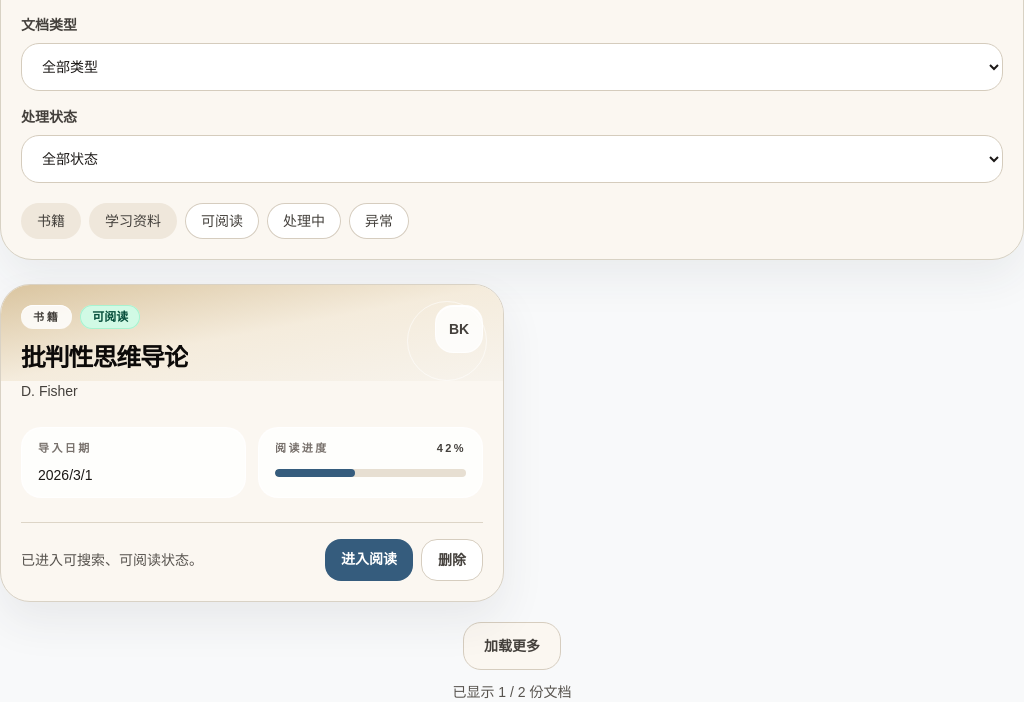
Scenario: DocumentLibraryPage › loads more documents and confirms deletion
The width and height of the screenshot is (1024, 702).
(page scrolled)
Expected: the heading "批判性思维导论" is shown, [21,345,188,371]
Click the button "加载更多".
click(512, 646)  # box [463,622,561,670]
(page scrolled)
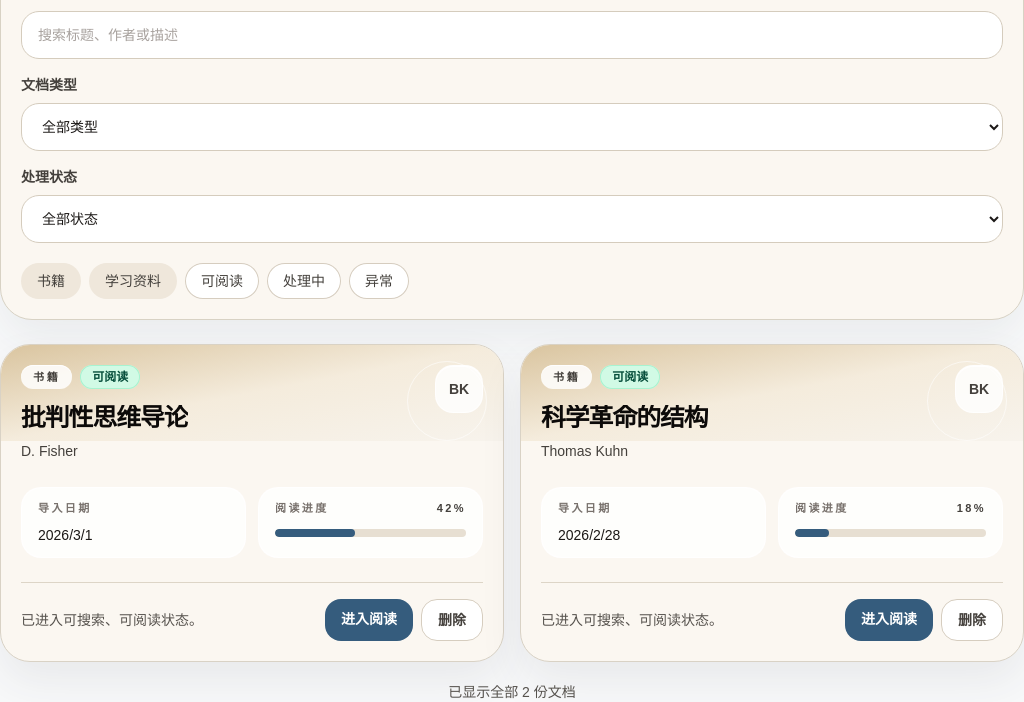
Result: the heading "科学革命的结构" is shown at [541,405,708,431]
Click the button "删除" below "42".
click(452, 620)  # box [421,598,483,640]
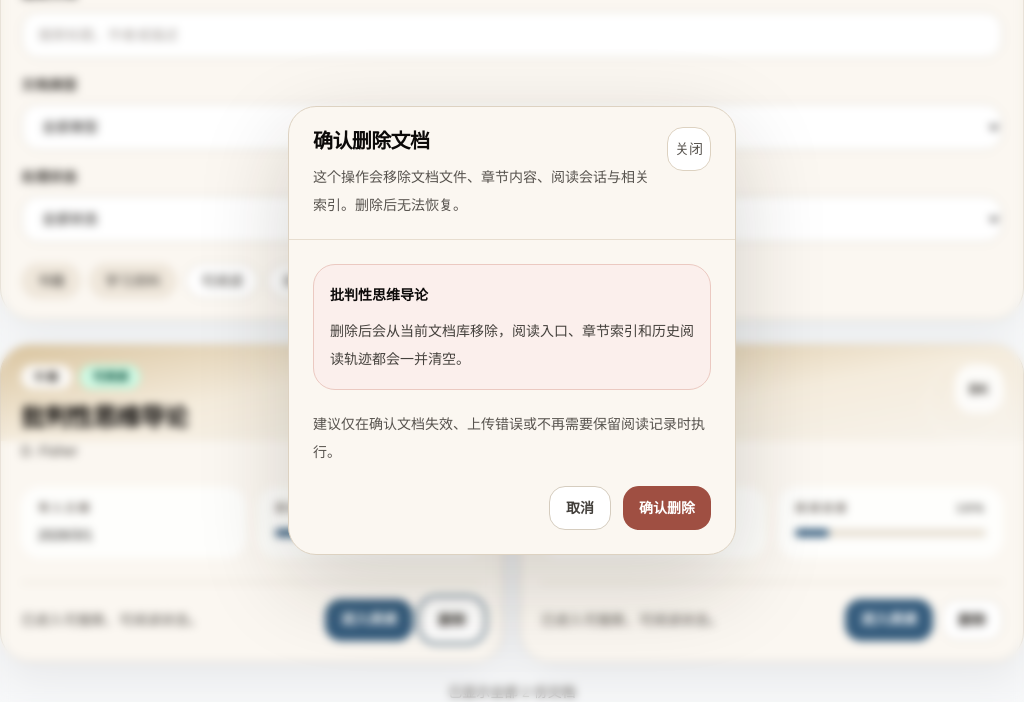
Result: the dialog is shown at [288,106,736,554]
Result: the heading "确认删除文档" is shown at [313,130,429,152]
Result: the text "批判性思维导论" is shown at [330,286,428,302]
Click the button "确认删除".
click(667, 508)  # box [623,486,711,530]
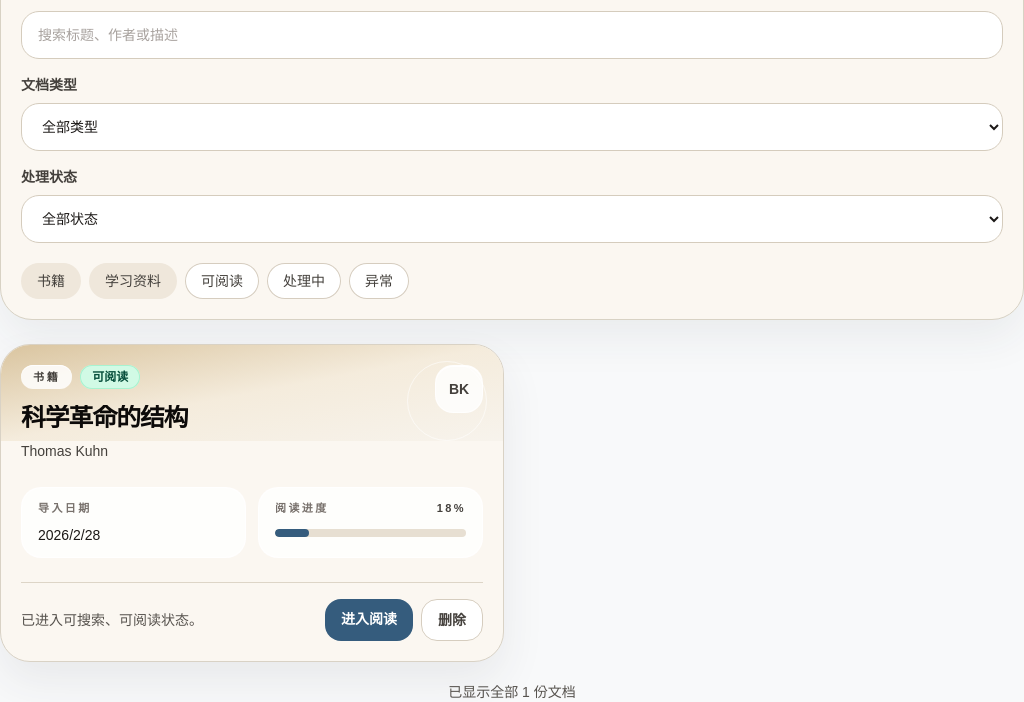
Result: the heading "批判性思维导论" is gone
